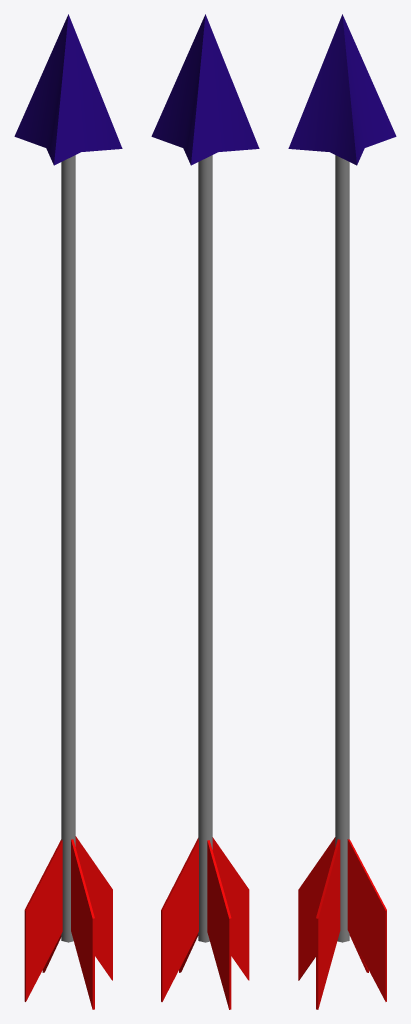
The model's file is arrow.FBX.
3 views of the same model, side by side, from view 1: azimuth 30°, elevation 25°; view 2: azimuth 210°, elevation 25°; view 3: azimuth 330°, elevation 25° (orthographic).
Parts seen in each view (by area): view 1: Box004; view 2: Box004; view 3: Box004.
Boxes of the visible parts, bbox=[...] form: Box004: bbox=[14, 14, 122, 1009]; Box004: bbox=[151, 14, 259, 1009]; Box004: bbox=[288, 14, 396, 1009].
Size of the model in its own units: 2.25 by 24.02 by 2.25.
